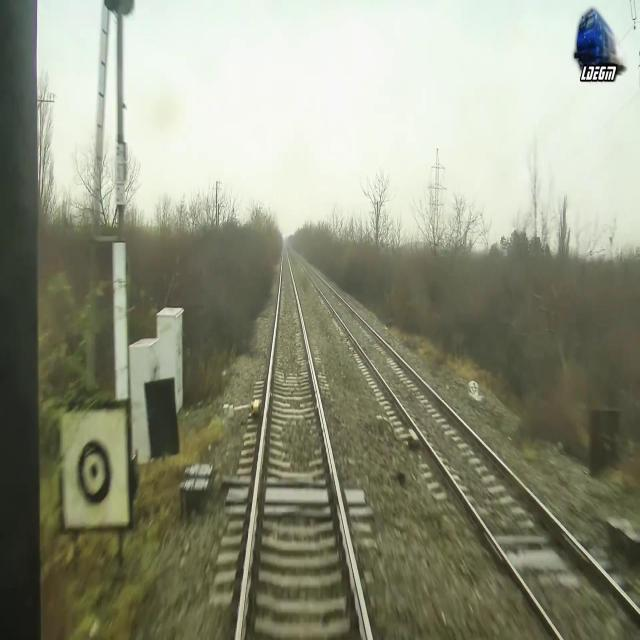rail-track: (295, 253, 640, 639), (241, 248, 366, 639)
